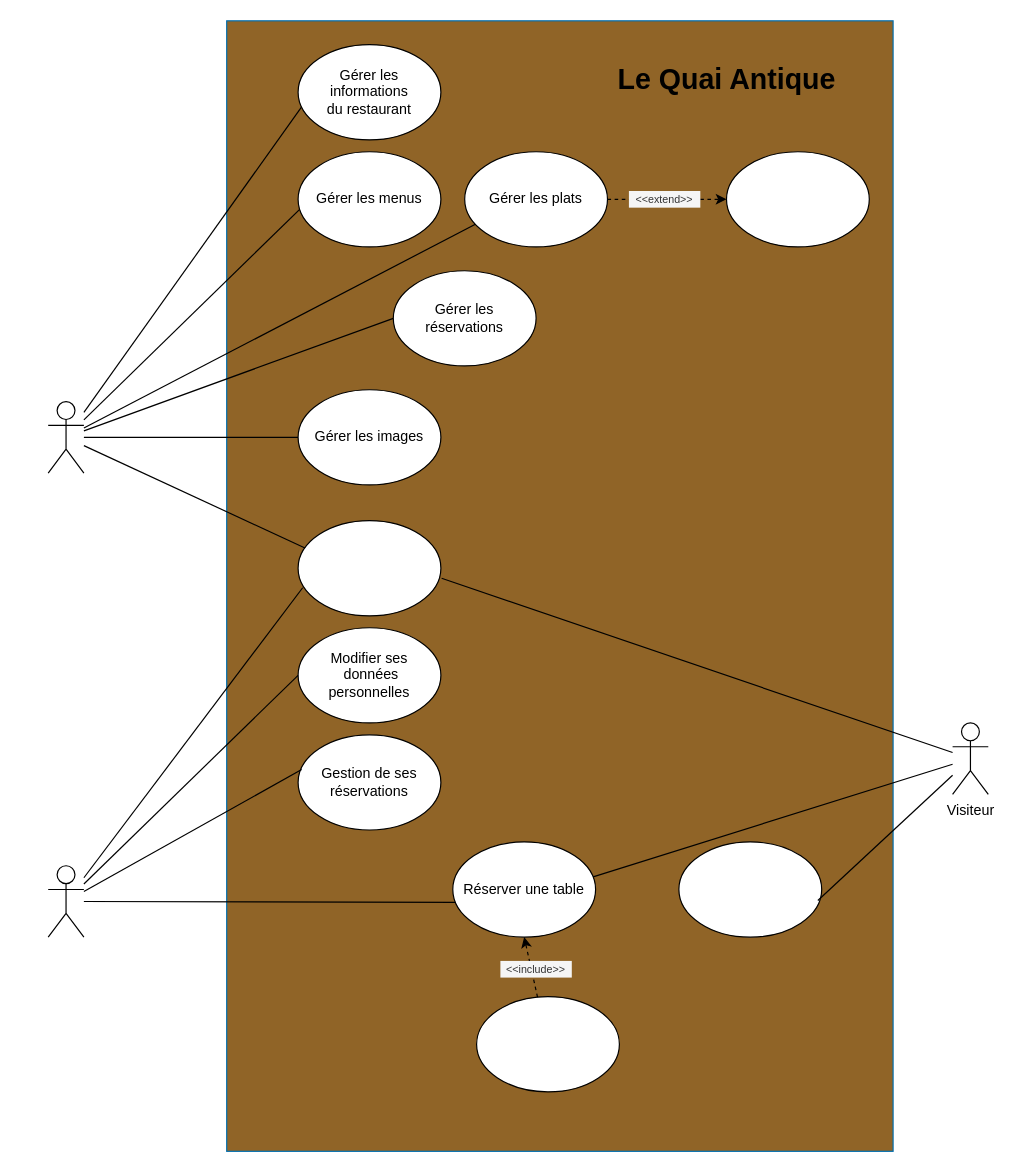
This 1015x1172 diagram has some shape labels left out. Here are the shapes that lost their labels. From the top down, the centre of each, then its label:
At [797,199]: "Gérer les catégories".
At [65,436]: "Administrateur".
At [369,567]: "Afficher la carte".
At [65,901]: "Client".
At [750,889]: "Inscription".
At [547,1043]: "Connexion".
